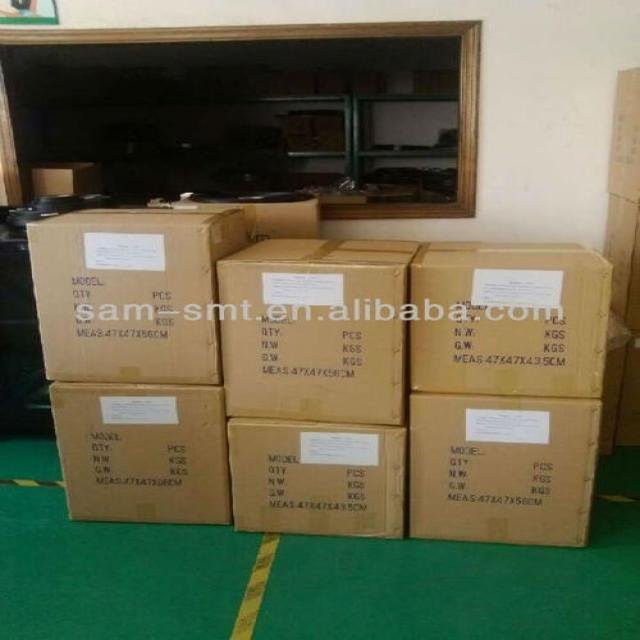box: (27, 206, 255, 385), (215, 239, 421, 427), (406, 240, 611, 399), (405, 393, 601, 546), (49, 379, 230, 523), (226, 416, 406, 538), (152, 199, 328, 246), (602, 190, 639, 335), (598, 313, 632, 454), (606, 70, 639, 202)
